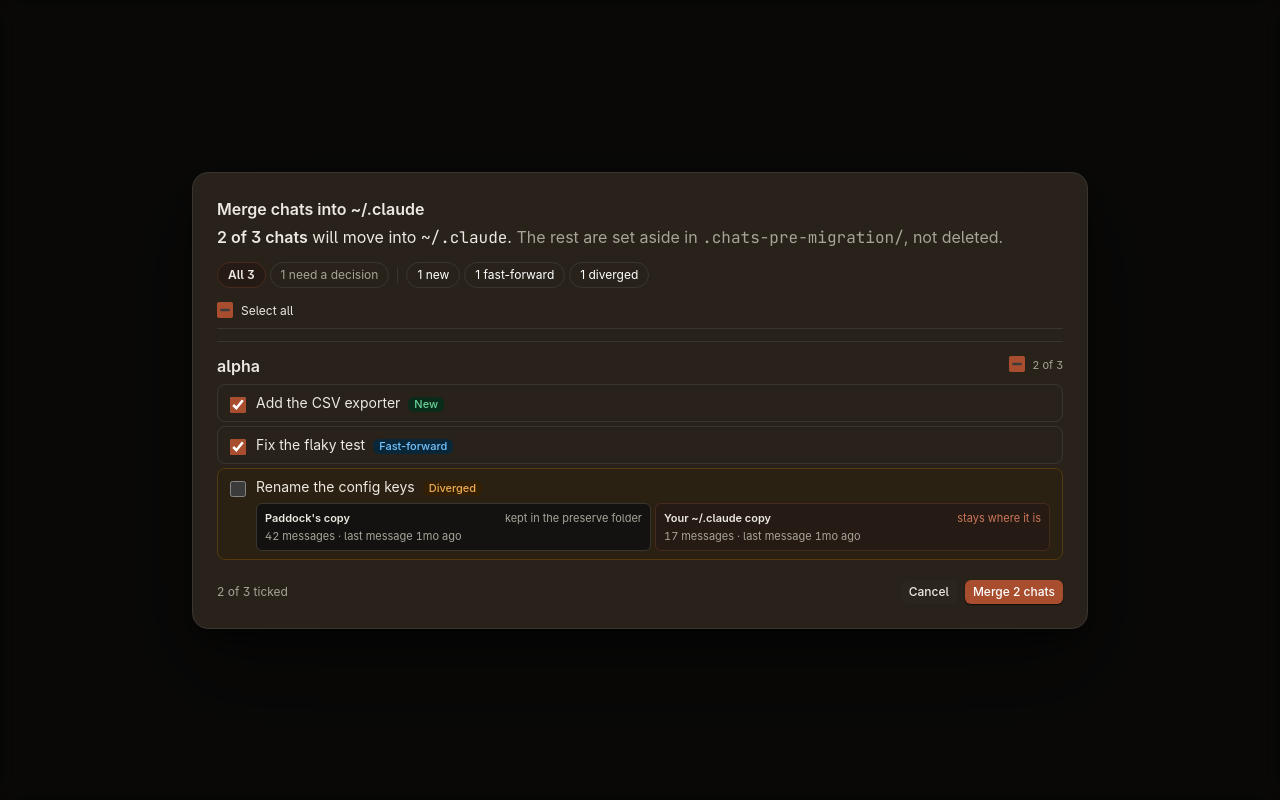
Scenario: the table › keeps the headline in step with the ticks
Check: the checkbox labelled "Add the CSV exporter New" is shown, box [230, 396, 246, 412]
Click the checkbox labelled "Rename the config keys".
click(238, 488)  # box [230, 480, 246, 496]
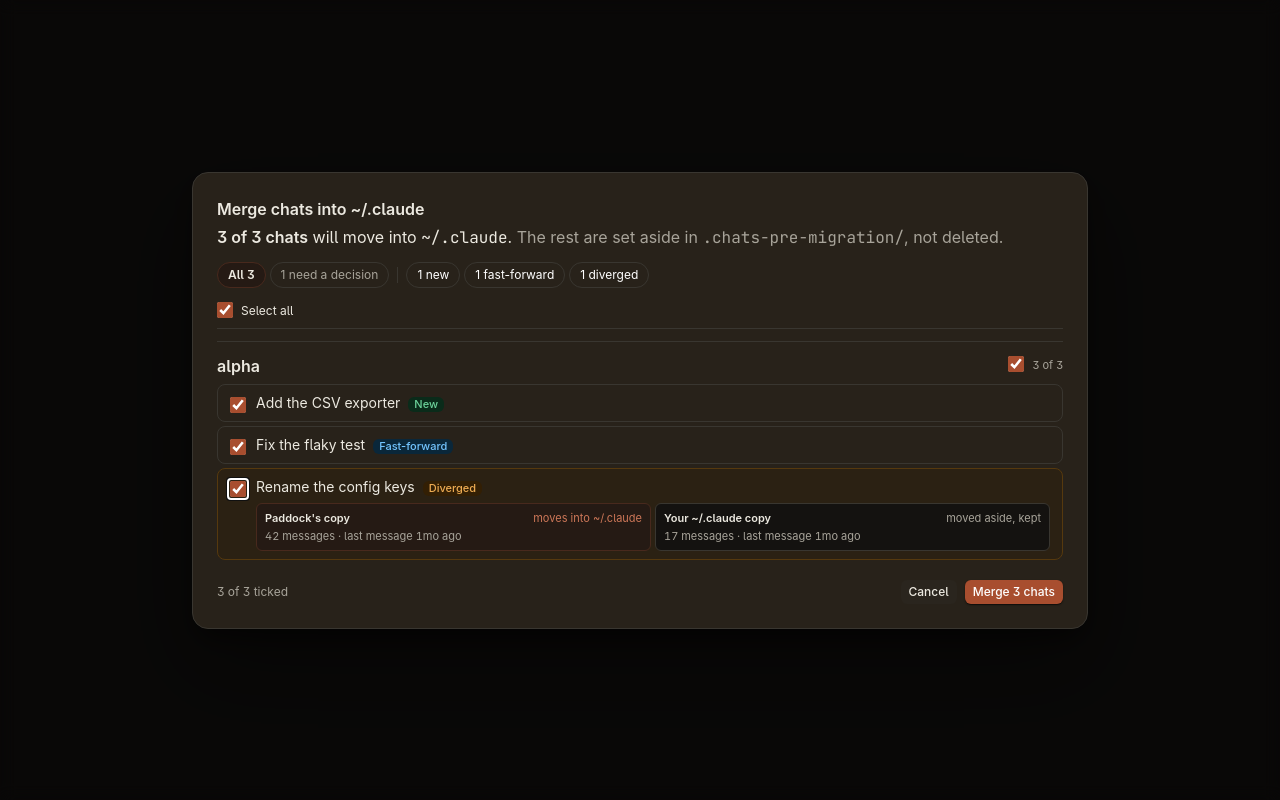
Check: the text "3 of 3 chats" is shown, box [217, 226, 308, 246]
